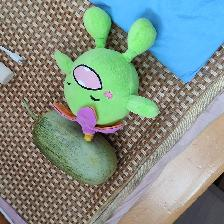gua: (34, 115, 105, 176)
